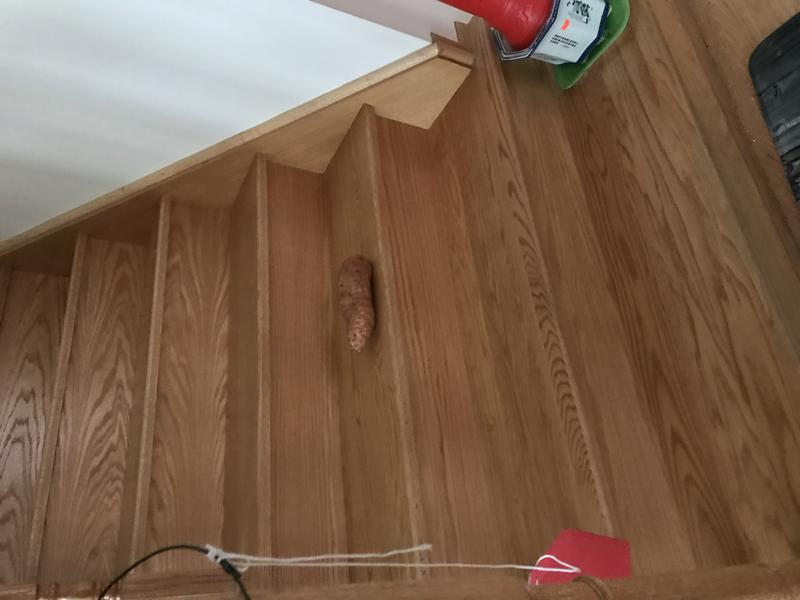sweet_potato: (331, 248, 382, 361)
